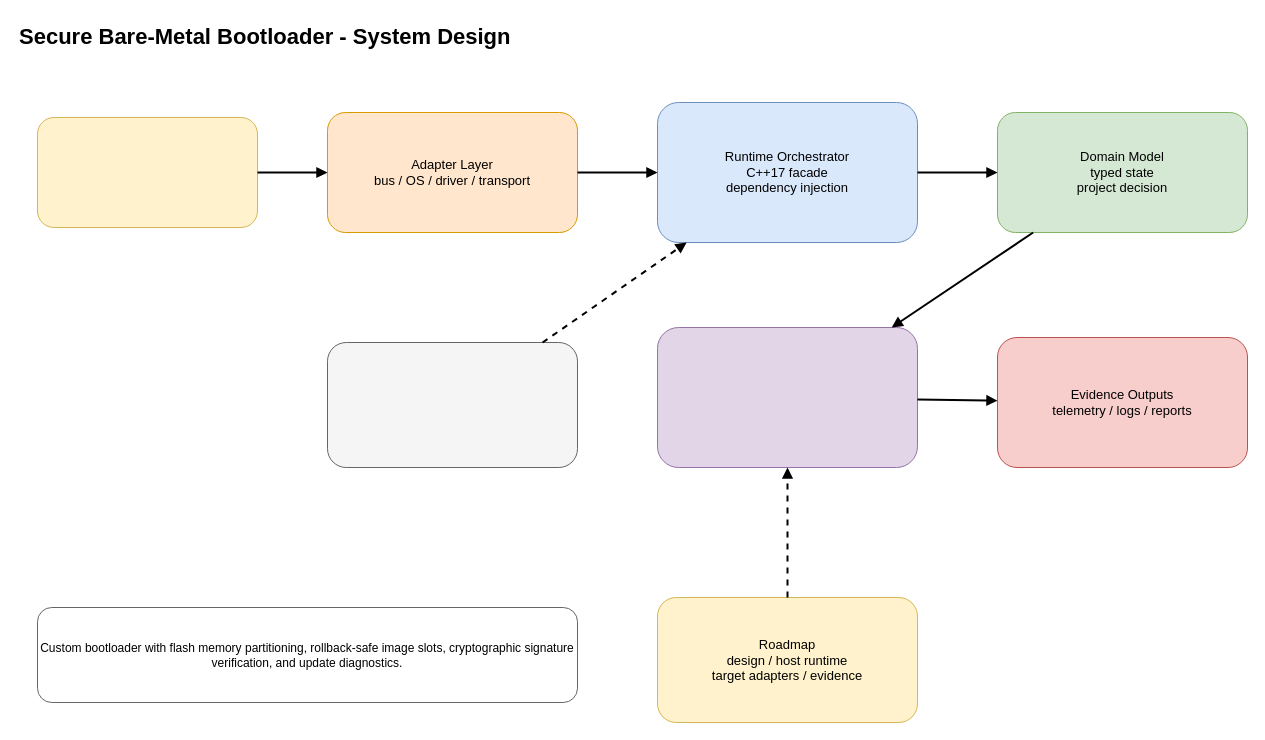
Image size: 1265x740. Some labels were removed from this diagram. The box of each missing label's shape, as (x1, y1, x2, y2) in pixels:
Input Sources hardware / simulator / commands: (36, 116, 258, 228)
Policy Gates safety / readiness resource limits: (656, 326, 918, 468)
Validation CTest / CI hardware evidence: (326, 342, 578, 468)
